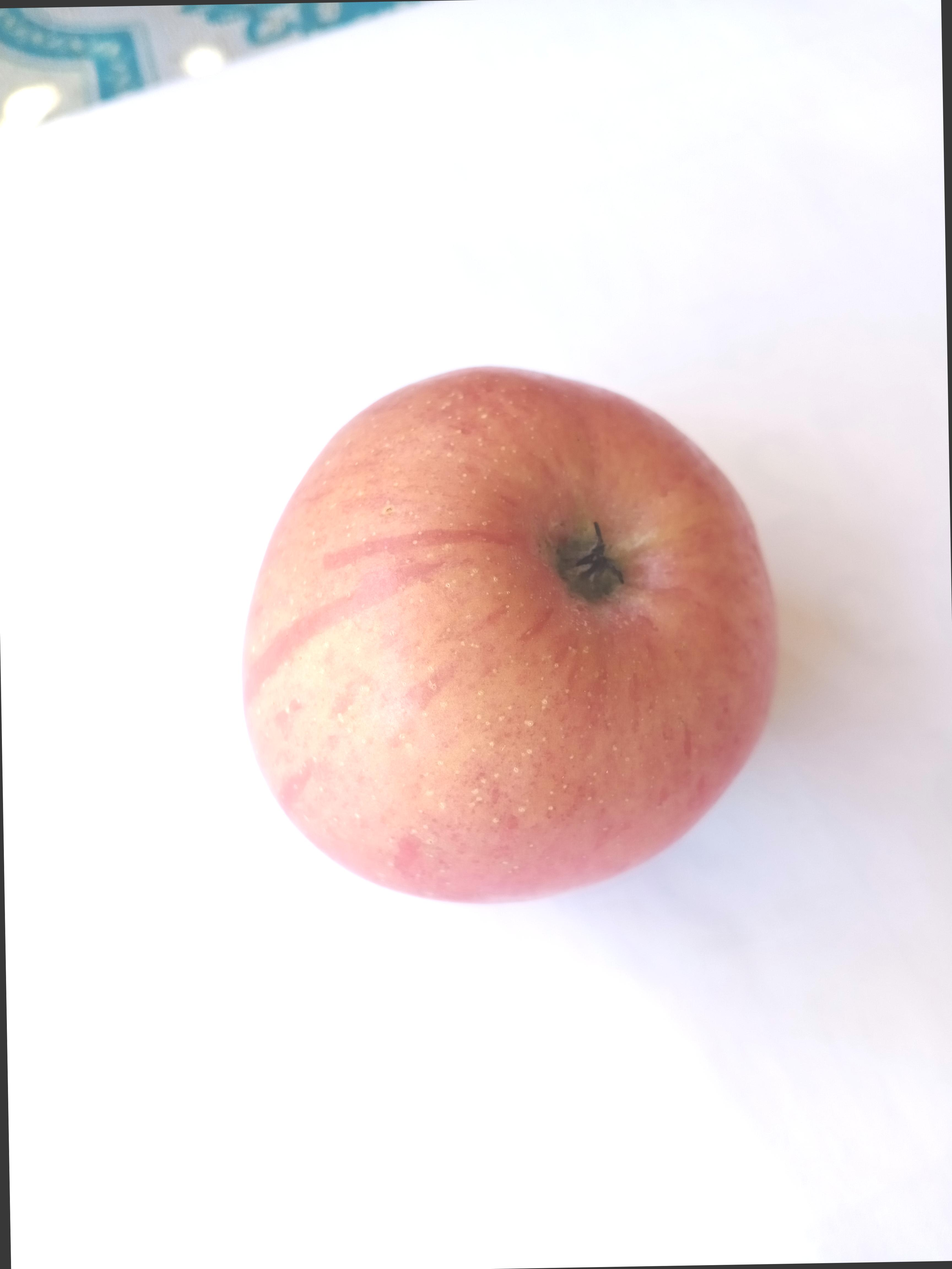Apple Ripe: (174, 341, 796, 957)
